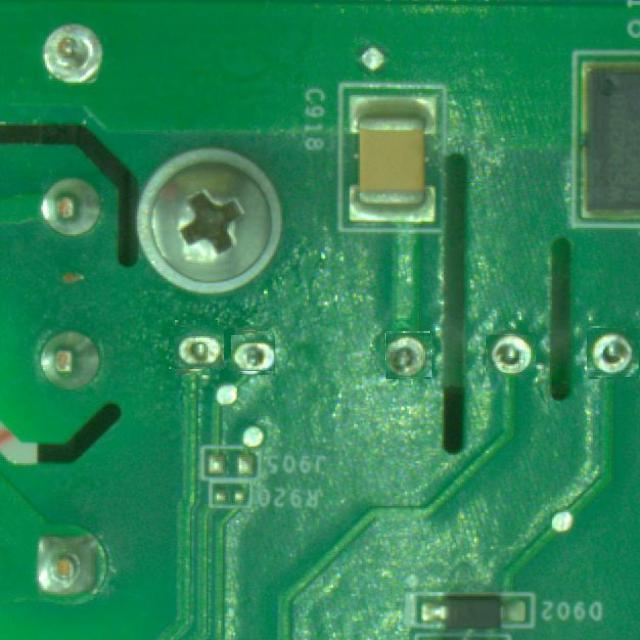lack_of_part: (588, 327, 640, 378), (172, 323, 221, 372), (385, 332, 431, 378), (489, 331, 533, 375), (233, 333, 274, 373)
